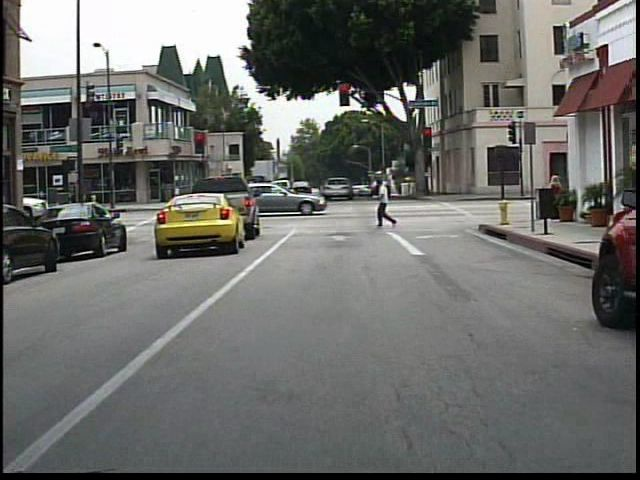person: (375, 179, 401, 232), (544, 173, 568, 224)
